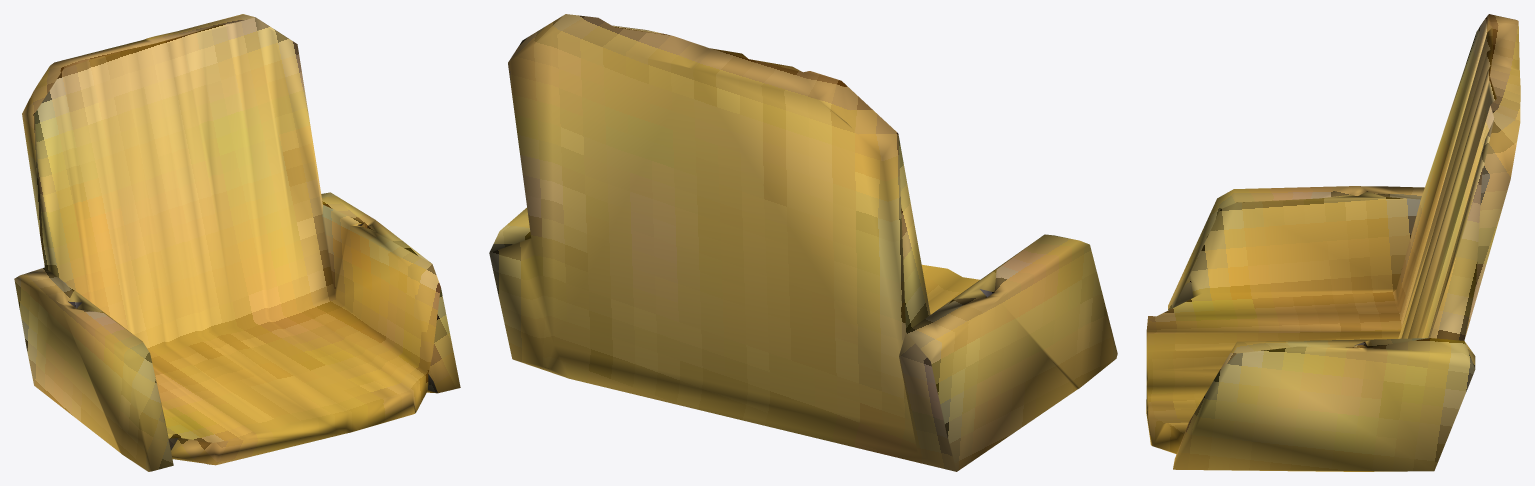
File: 3D_Dollhouse_Swing-low.glb
3 views of the same model, side by side, from view 1: azimuth 30°, elevation 25°; view 2: azimuth 150°, elevation 25°; view 3: azimuth 270°, elevation 25° (orthographic). The views are drawn at different scales.
Parts seen in each view (by area): view 1: 3D_Dollhouse_Swing; view 2: 3D_Dollhouse_Swing; view 3: 3D_Dollhouse_Swing.
Part boxes in pixels (box(x1,y1,x2,y2)): 3D_Dollhouse_Swing: box(14, 14, 460, 471); 3D_Dollhouse_Swing: box(489, 14, 1117, 471); 3D_Dollhouse_Swing: box(1146, 14, 1520, 471).
Size of the model in its own units: 0.1046 by 0.092 by 0.0949.
1 material, 1 textured.
